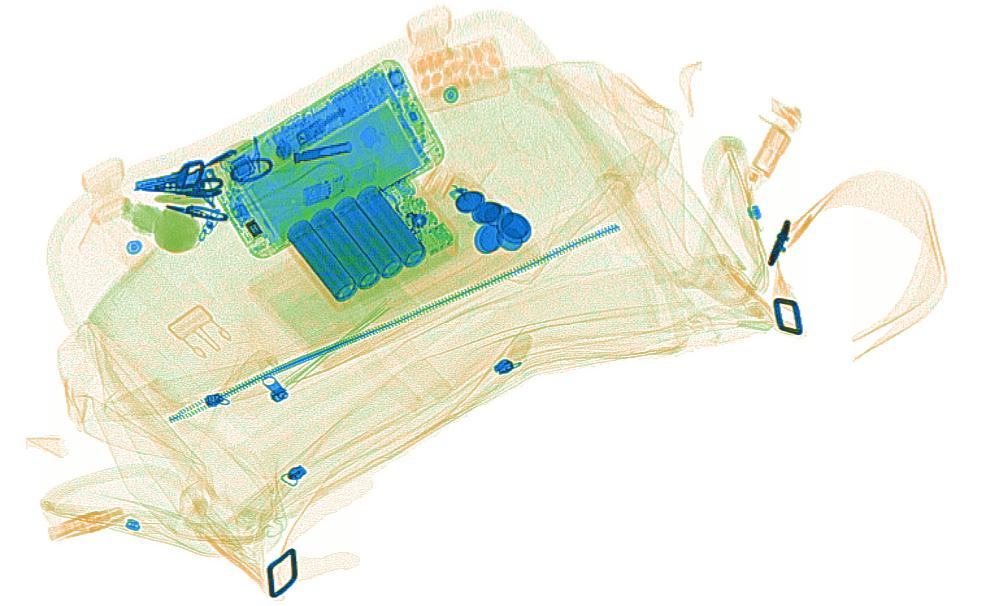USBFlashDisk: (301, 163, 378, 207)
battery: (285, 172, 457, 305)
